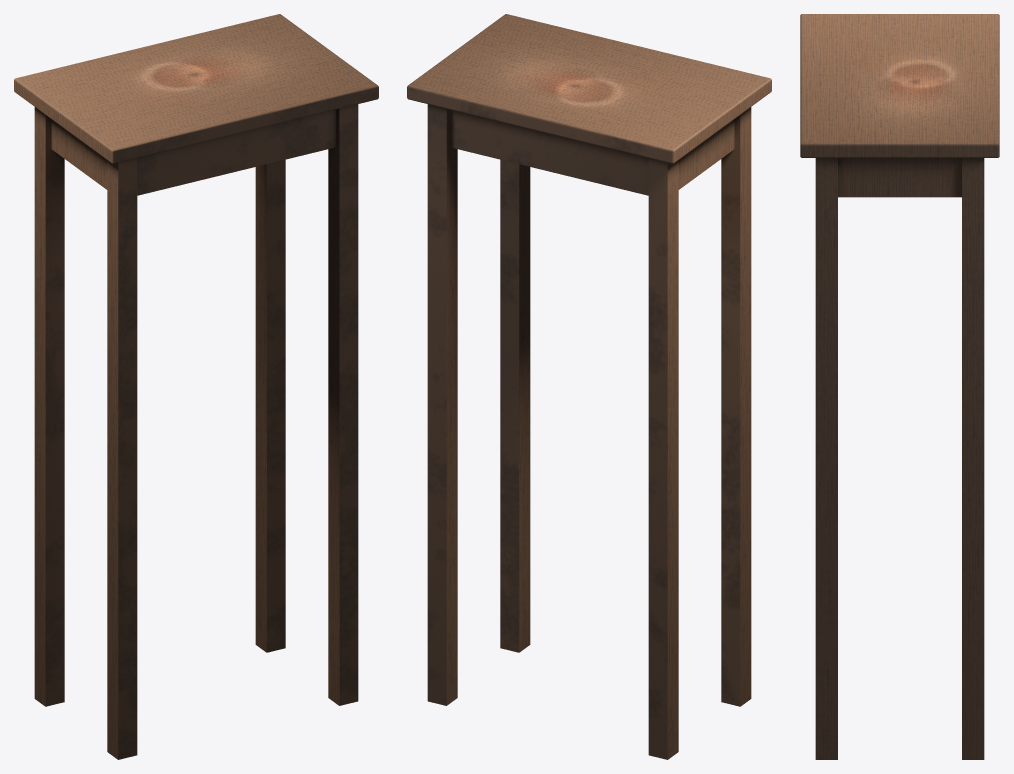
File: 401_heat.glb
3 views of the same model, side by side, from view 1: azimuth 30°, elevation 25°; view 2: azimuth 150°, elevation 25°; view 3: azimuth 270°, elevation 25° (orthographic).
Parts seen in each view (by area): view 1: Table; view 2: Table; view 3: Table.
Boxes of the visible parts, box(x1,y1,x2,y2) form: Table: box(14, 14, 378, 759); Table: box(407, 14, 771, 759); Table: box(800, 14, 999, 759).
Size of what is drawn, in the model's own units: 1.4 by 3.1 by 0.9.
1 material, 1 textured.
